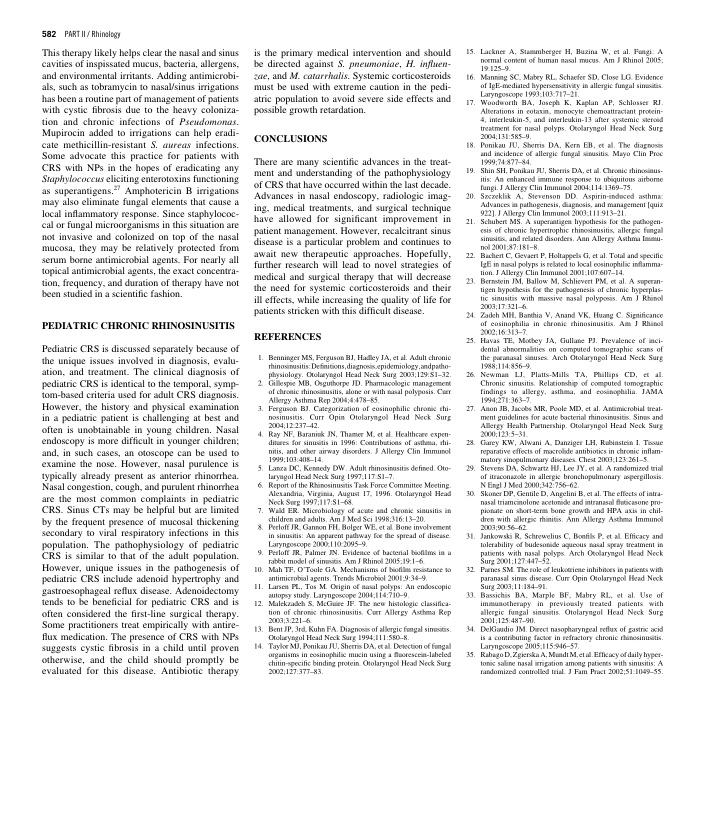header: (64, 29, 121, 40)
list: (465, 48, 664, 675), (254, 354, 452, 676)
section-heading: (41, 321, 236, 330), (253, 134, 328, 143), (253, 332, 322, 341)
text: (41, 344, 240, 677), (41, 48, 240, 298), (254, 157, 452, 317), (253, 48, 452, 116)
